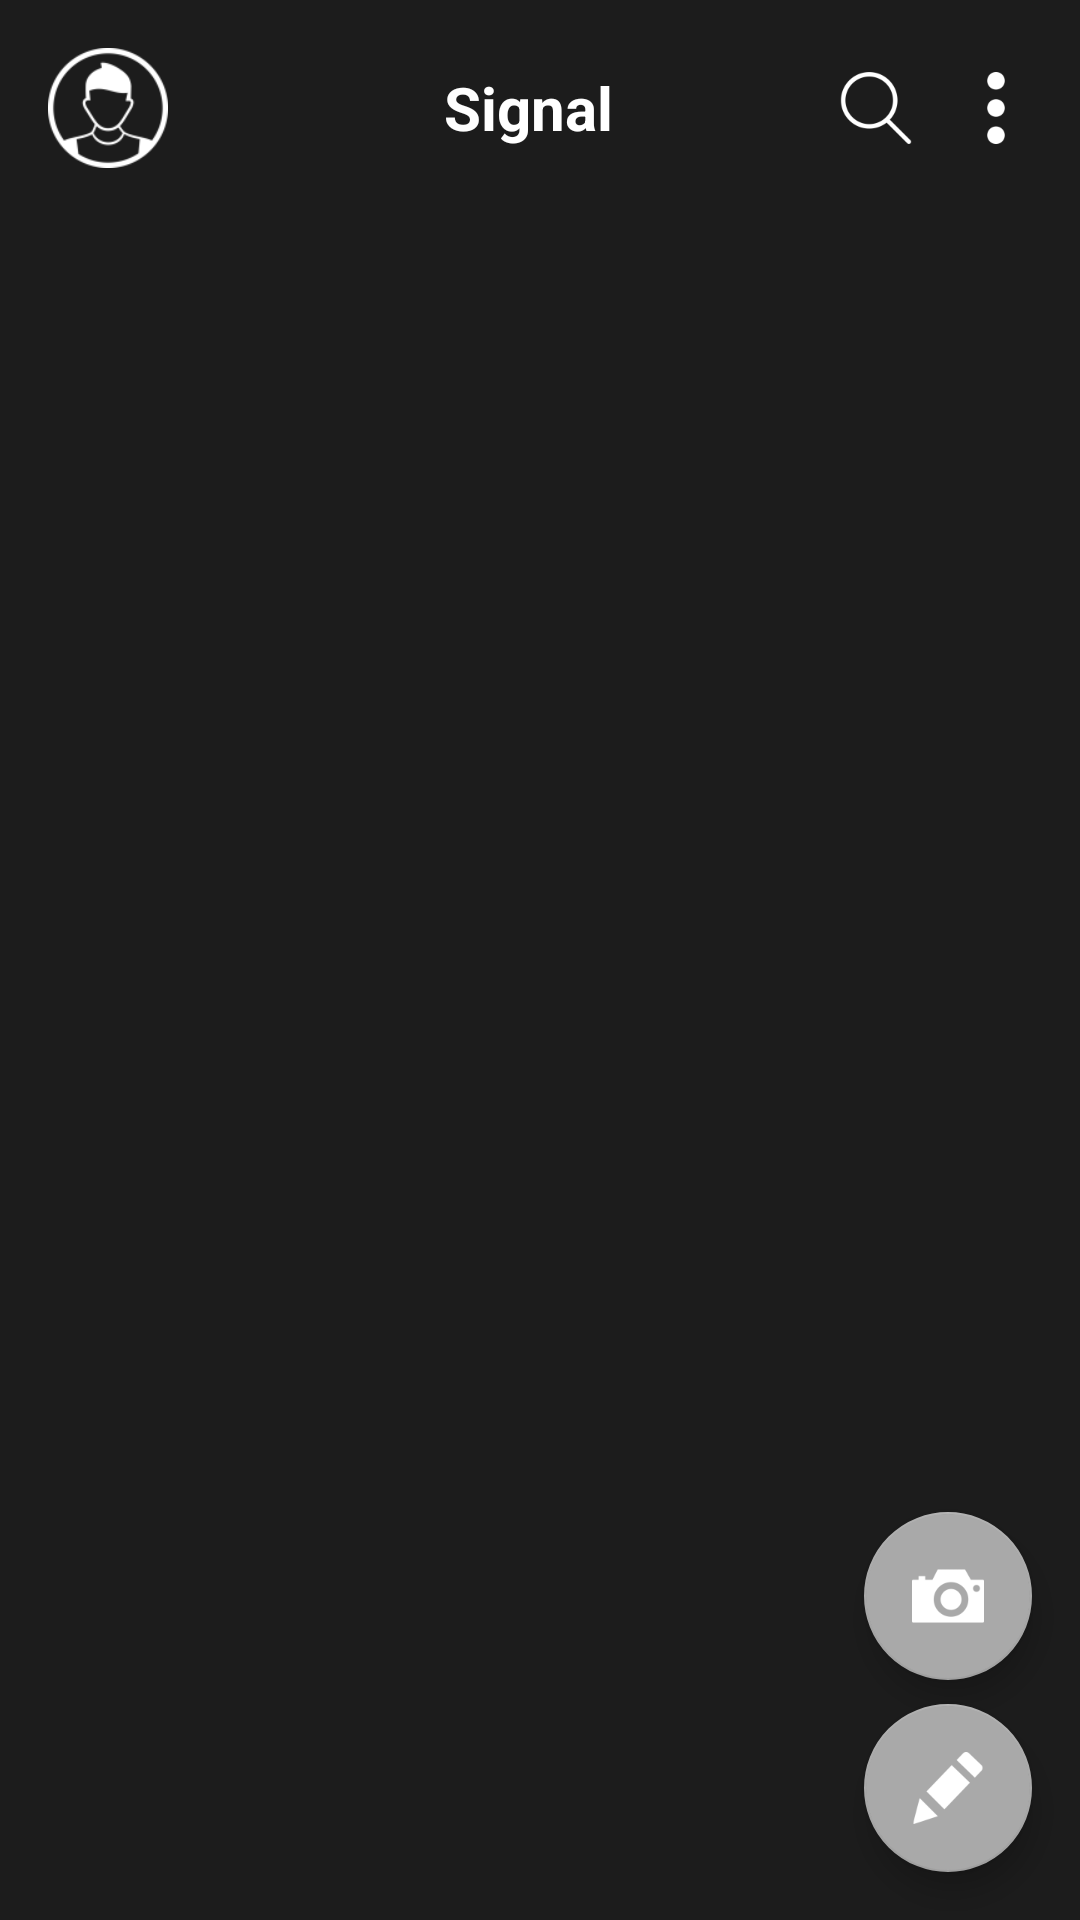

Where icons sit on this 1080×1920 app screen, as (x1=x1, y1=y1, x2=x2, y2=y2):
cameraicon: (x1=864, y1=1512, x2=1032, y2=1680)
editicon: (x1=864, y1=1704, x2=1032, y2=1872)
Profile Icon: (x1=48, y1=48, x2=168, y2=168)
Search: (x1=840, y1=72, x2=912, y2=144)
